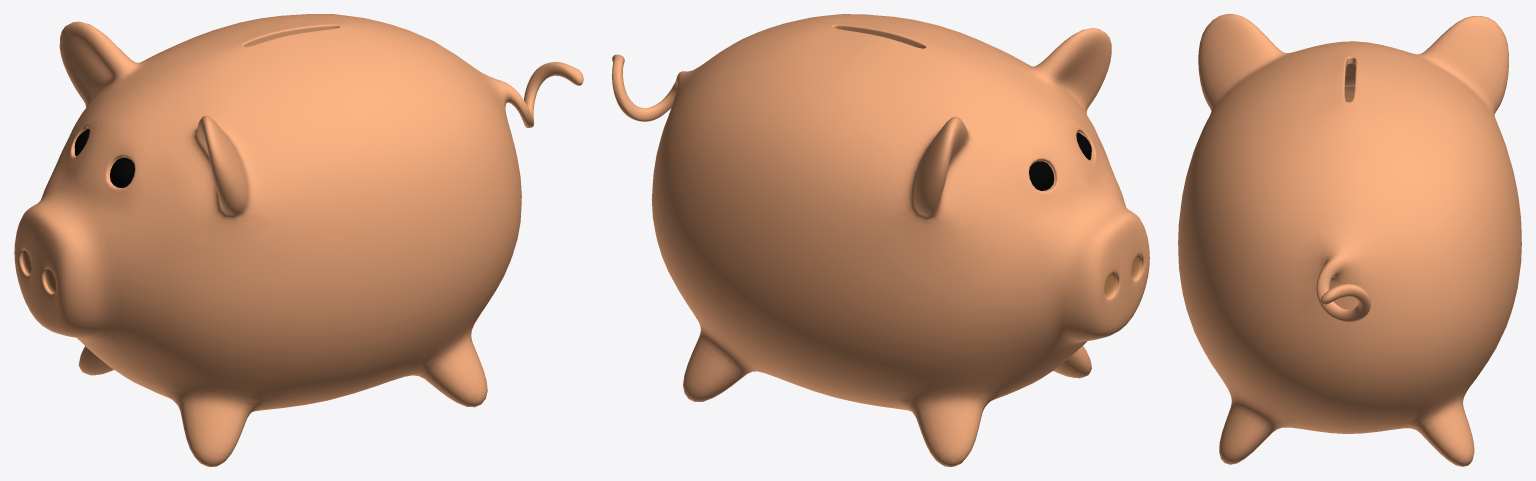
Rendered from Piggy.fbx.
3 views of the same model, side by side, from view 1: azimuth 30°, elevation 25°; view 2: azimuth 150°, elevation 25°; view 3: azimuth 270°, elevation 25° (orthographic). The views are drawn at different scales.
Visible parts, largest first — view 1: Pig; view 2: Pig; view 3: Pig.
Boxes of the visible parts, x1,y1,x2,y2 form: Pig: [14, 14, 583, 466]; Pig: [612, 14, 1149, 466]; Pig: [1178, 14, 1521, 466].
Size of the model in its own units: 281 by 180 by 168.
